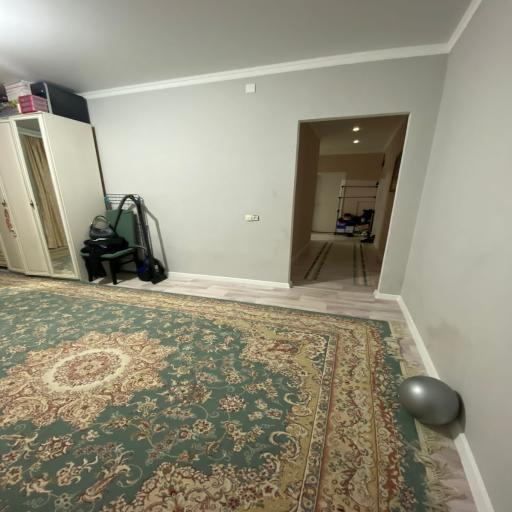bottle: (80, 210, 141, 285)
bus: (0, 113, 105, 279)
car: (305, 131, 398, 296)
